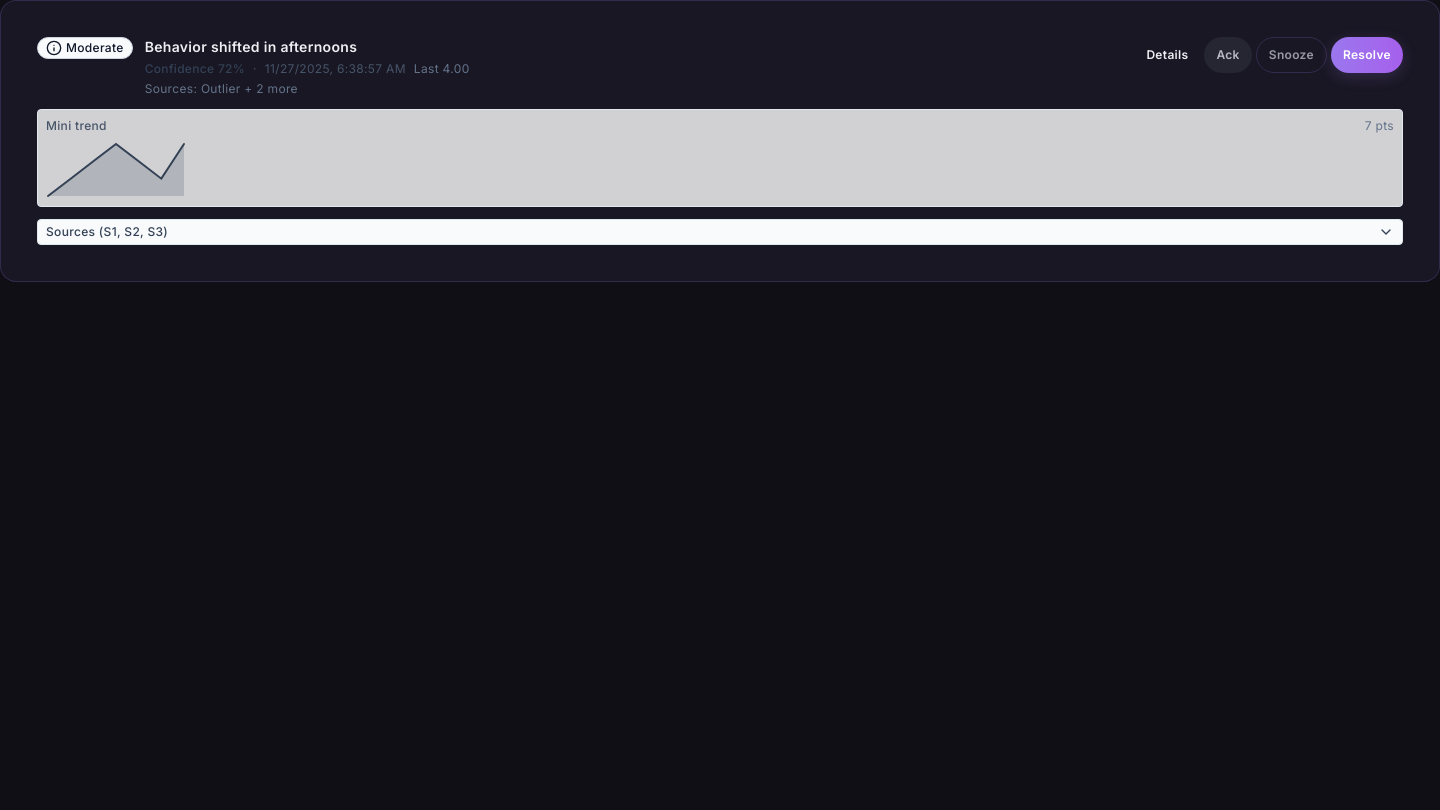
Test: Alert Integration › expands sources and shows S1/S2/S3 ranks
Click the button "Sources (S1, S2, S3)".
click(71, 232)  # box 37,219 -> 1403,245
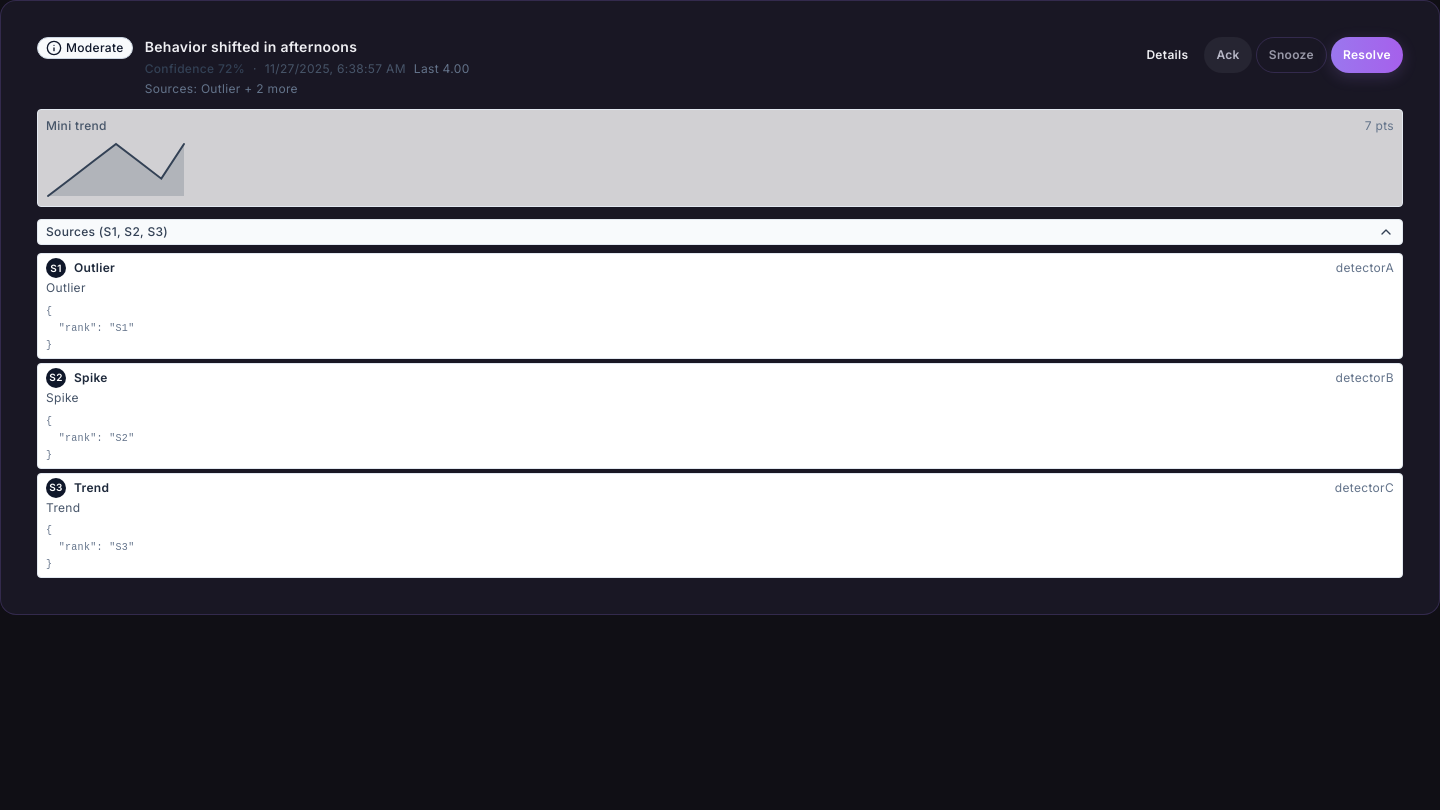
Result: the text named "Rank S1" is shown at 46,258 -> 66,278
Result: the text named "Rank S2" is shown at 46,368 -> 66,388
Result: the text named "Rank S3" is shown at 46,478 -> 66,498
